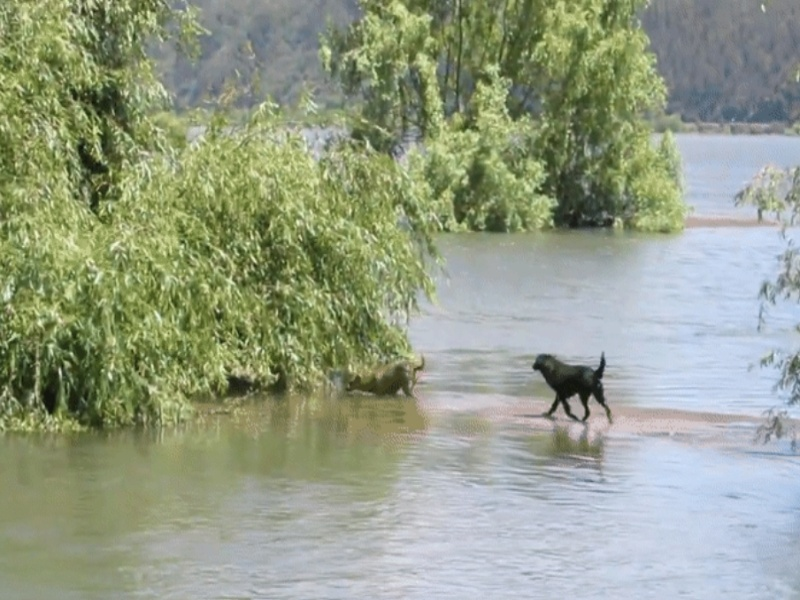dog: (530, 348, 622, 433), (345, 357, 424, 405)
